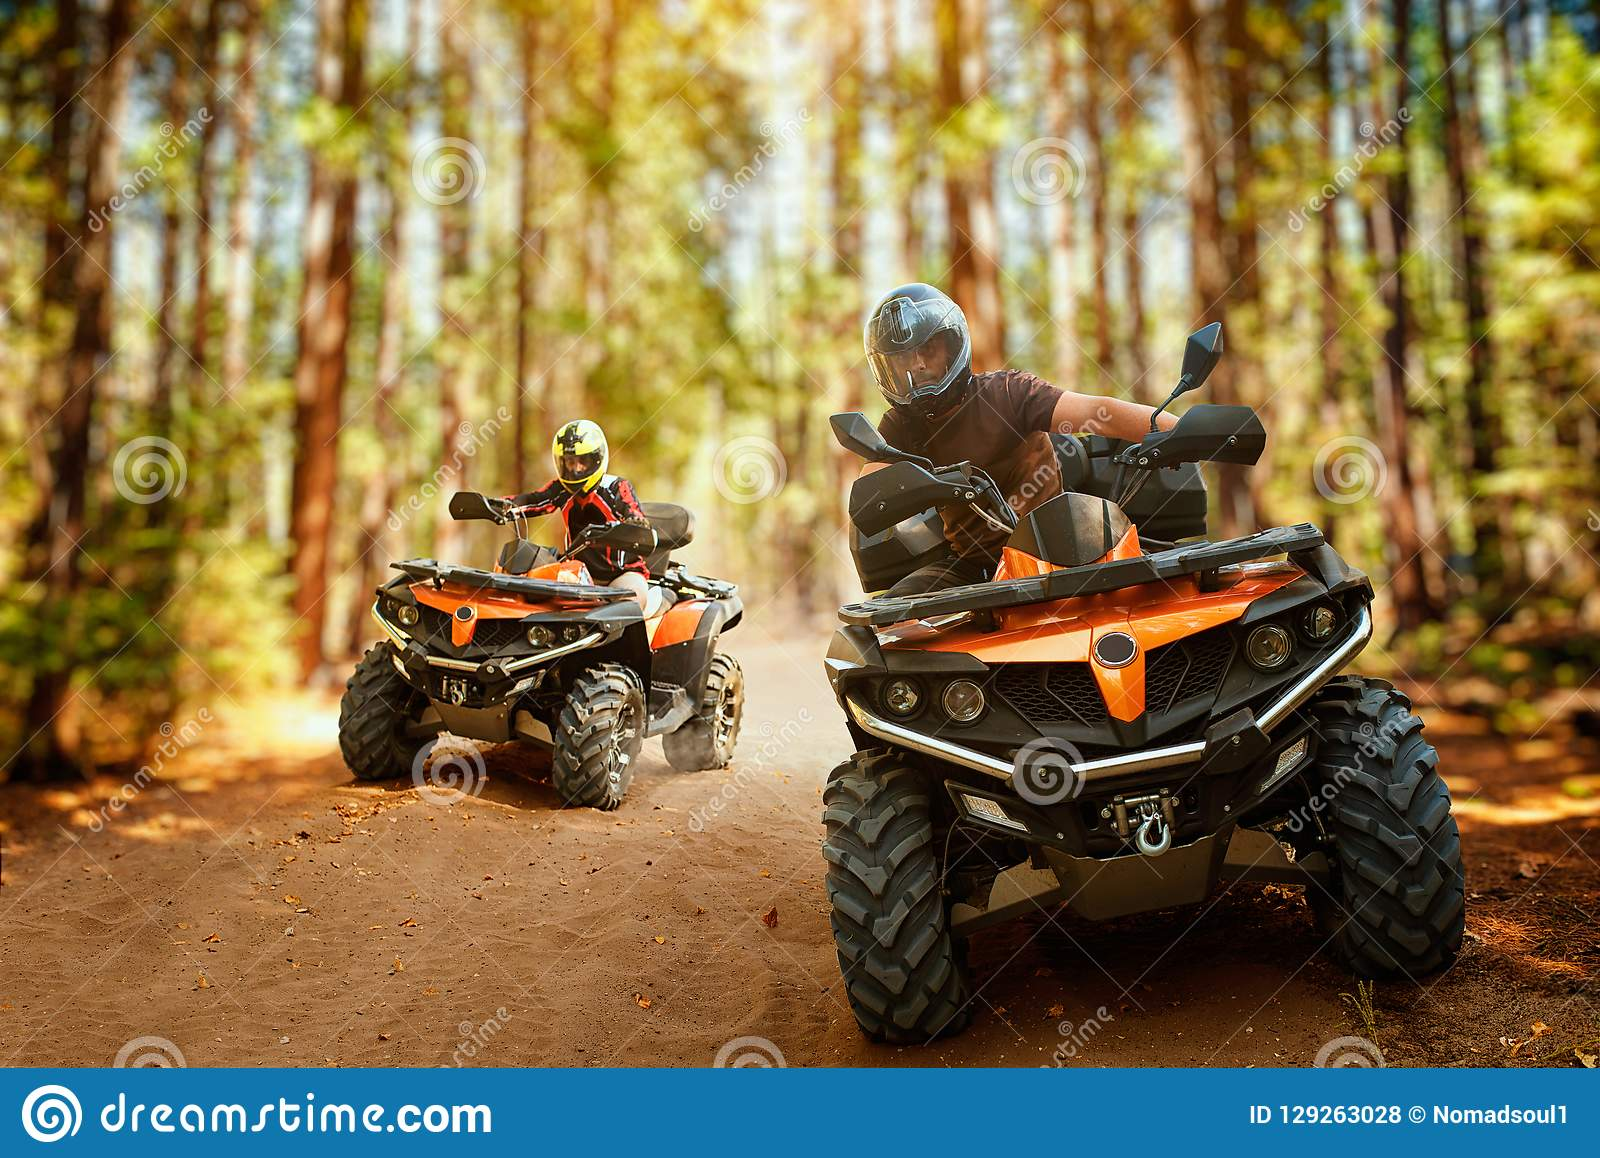helmet: (853, 297, 978, 422), (550, 421, 609, 499)
